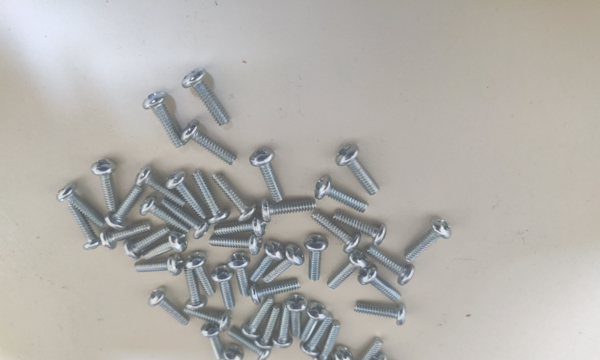shortscrew: (182, 68, 230, 127), (181, 121, 238, 166), (142, 92, 184, 149), (336, 144, 380, 196), (212, 173, 258, 222), (56, 182, 105, 227), (311, 210, 362, 253), (192, 169, 231, 225), (136, 166, 188, 208), (404, 217, 452, 262), (315, 175, 370, 214), (165, 170, 208, 219), (160, 199, 211, 239), (332, 211, 388, 247), (366, 245, 415, 286), (141, 195, 192, 234), (105, 184, 146, 230), (250, 148, 284, 203), (358, 263, 403, 303), (67, 202, 103, 251), (263, 243, 305, 284), (123, 226, 173, 260), (149, 287, 191, 327), (328, 250, 367, 291), (100, 221, 153, 251), (227, 328, 274, 360), (301, 312, 334, 357), (92, 159, 120, 212), (185, 251, 217, 297), (183, 303, 232, 333), (242, 296, 275, 340), (250, 278, 302, 305), (250, 241, 284, 282), (142, 231, 188, 261), (261, 199, 317, 223), (354, 302, 406, 327), (214, 214, 266, 238), (209, 233, 263, 256), (184, 261, 208, 311), (211, 264, 237, 310), (299, 301, 328, 342), (304, 234, 329, 281), (227, 252, 252, 298), (313, 320, 341, 360), (201, 321, 228, 360), (135, 255, 185, 276), (286, 294, 308, 337), (346, 338, 384, 360), (274, 303, 290, 349), (321, 345, 354, 360), (218, 344, 245, 360), (371, 353, 415, 360)
